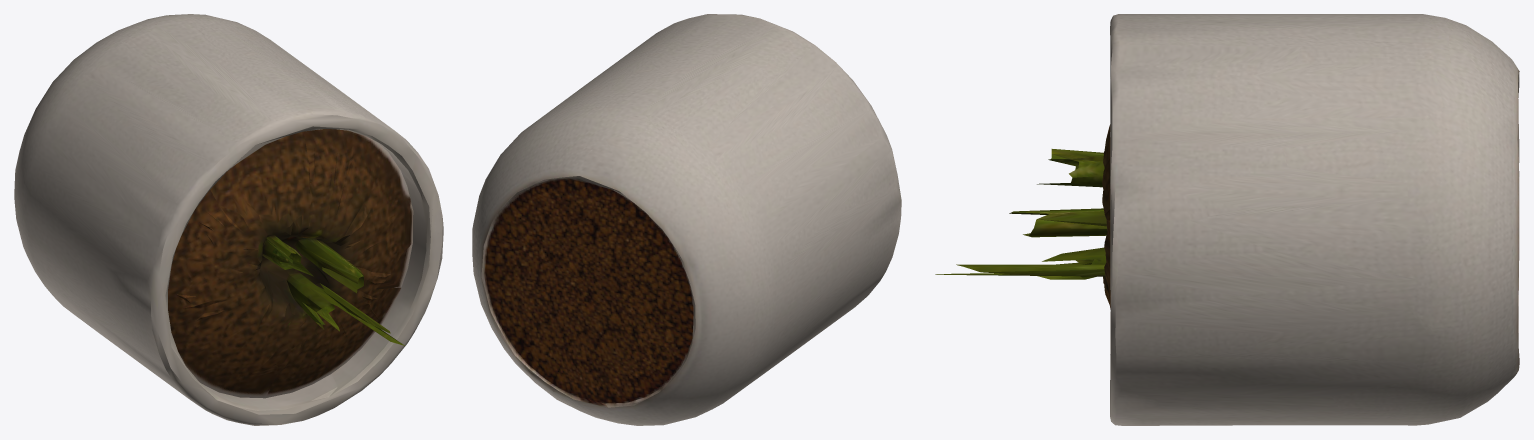
The model's file is Big_Plant_Static.glb.
3 views of the same model, side by side, from view 1: azimuth 30°, elevation 25°; view 2: azimuth 150°, elevation 25°; view 3: azimuth 270°, elevation 25° (orthographic). The views are drawn at different scales.
Parts seen in each view (by area): view 1: Big_Plant_Static; view 2: Big_Plant_Static; view 3: Big_Plant_Static.
Part boxes in pixels (x1,y1,x2,y2): Big_Plant_Static: (14,14,443,425); Big_Plant_Static: (472,14,901,425); Big_Plant_Static: (935,14,1519,425).
Bounding box in the file's own units: 0.4387 × 0.4393 × 0.628.
1 material, 1 textured.
